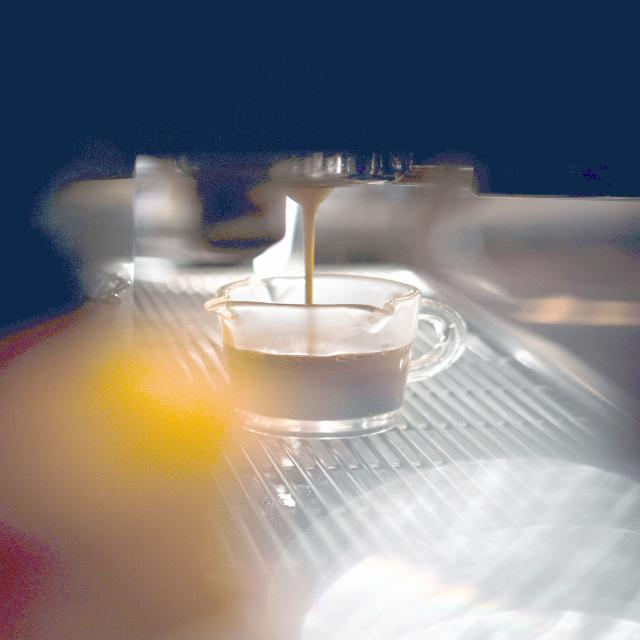drink: (217, 269, 417, 428)
